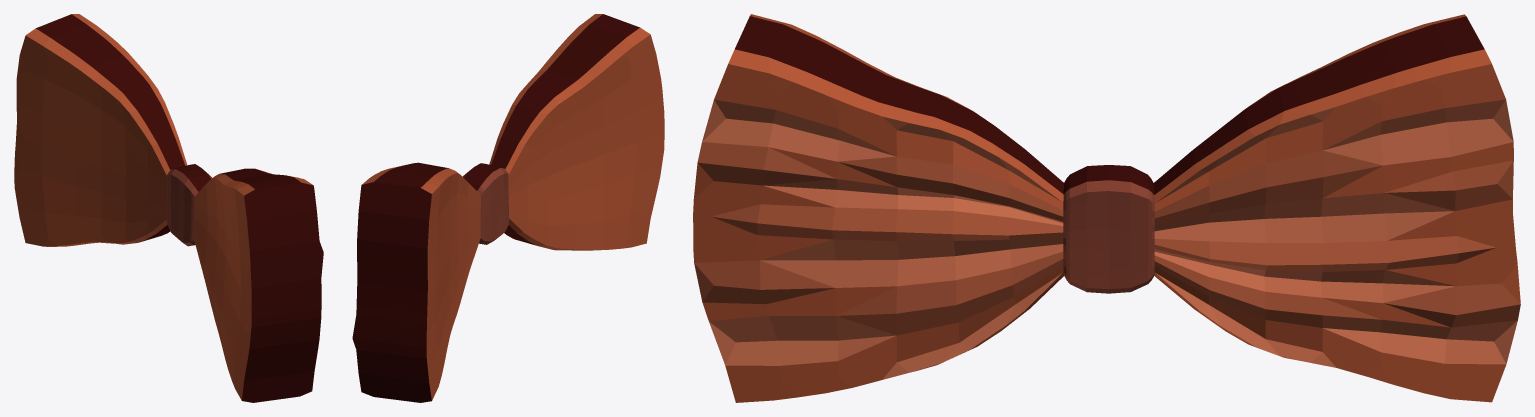
Rendered from Fliege (1).fbx.
3 renders of one model, left to right at view 1: azimuth 30°, elevation 25°; view 2: azimuth 150°, elevation 25°; view 3: azimuth 270°, elevation 25°, orthographic. The views are drawn at different scales.
Parts seen in each view (by area): view 1: Fliege; view 2: Fliege; view 3: Fliege.
Part boxes in pixels (box(x1,y1,x2,y2)): Fliege: box(14, 14, 323, 402); Fliege: box(352, 14, 664, 402); Fliege: box(693, 14, 1520, 402).
Bounding box in the file's own units: 260 × 601 × 1283.
